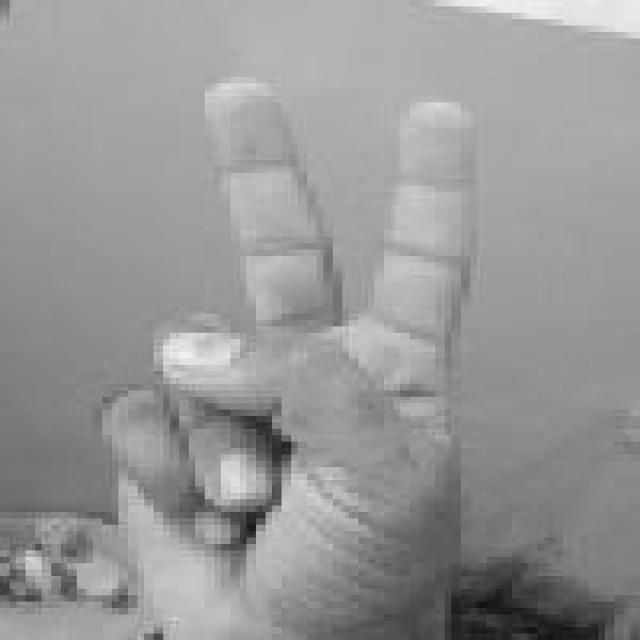V: (88, 75, 491, 629)
